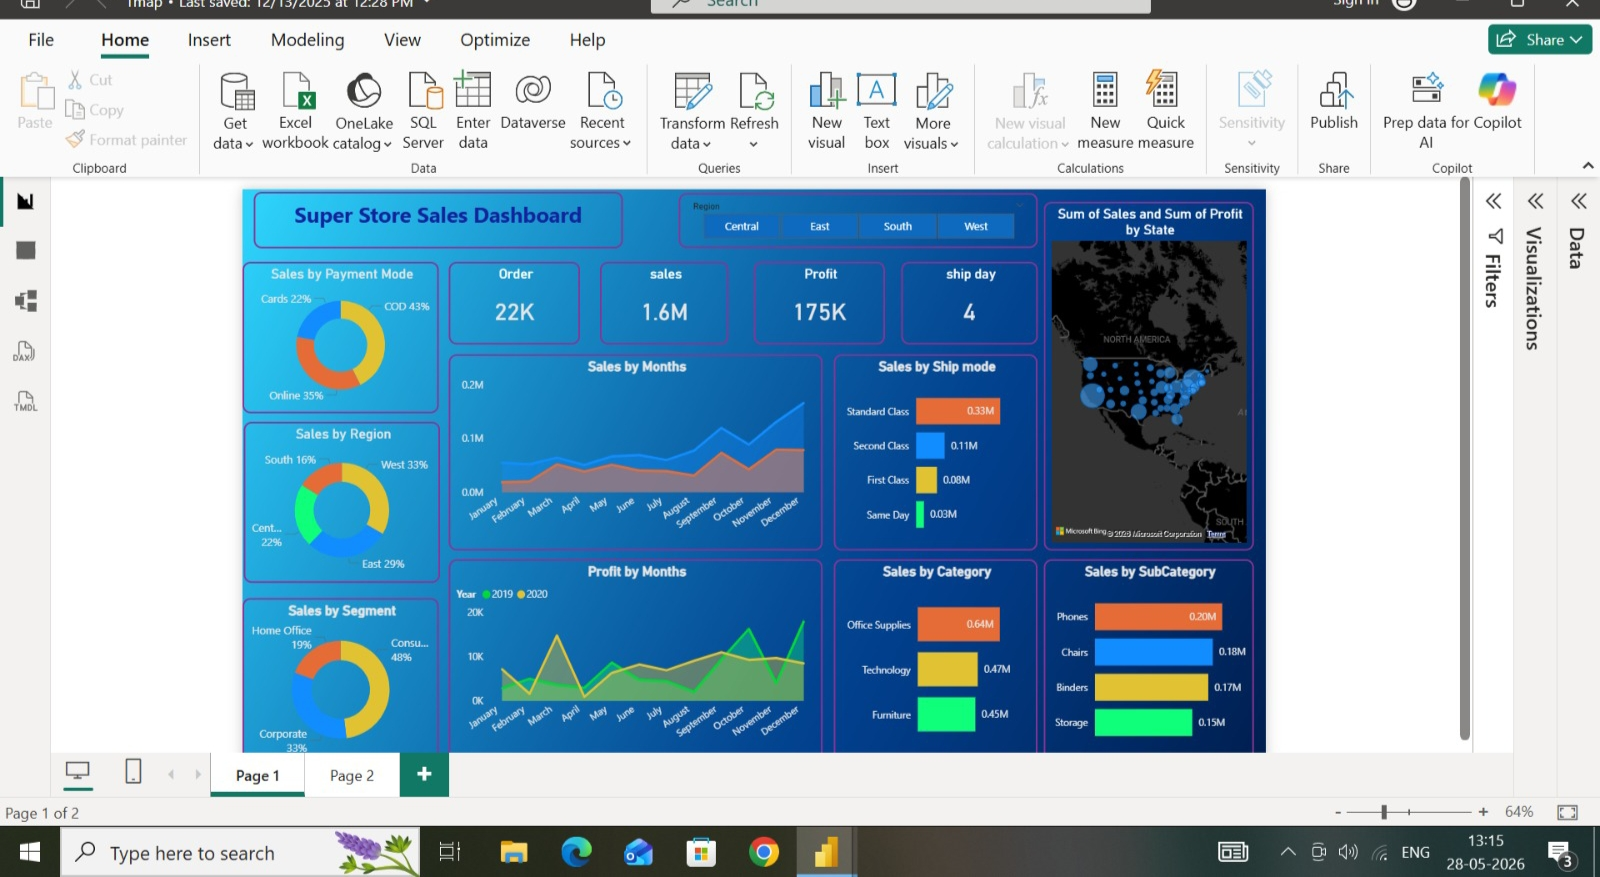

The page's visual inventory and layout, read from the dashboard file:
{"tool":"powerbi","page":{"name":"Page 1","canvas":[1280,720],"ordinal":0},"visuals":[{"type":"clusteredBarChart","title":" Sales by SubCategory","fields":{"Y":["Sum(SuperStore_Sales_Dataset.Sales)"],"Category":["SuperStore_Sales_Dataset.Sub-Category"]},"box":[1001.9,462.6,262.6,250.1],"z":0},{"type":"clusteredBarChart","title":" Sales by Category","fields":{"Category":["SuperStore_Sales_Dataset.Category"],"Y":["Sum(SuperStore_Sales_Dataset.Sales)"]},"box":[739.3,462.6,254.8,250.1],"z":1000},{"type":"clusteredBarChart","title":" Sales by Ship mode","fields":{"Y":["Sum(SuperStore_Sales_Dataset.Sales)"],"Category":["SuperStore_Sales_Dataset.Ship Mode"]},"box":[739.3,206.3,254.8,245.4],"z":2000},{"type":"areaChart","title":"Sales by Months","fields":{"Y":["Sum(SuperStore_Sales_Dataset.Sales)"],"Category":["SuperStore_Sales_Dataset.Order Date.Variation.Date Hierarchy.Month","SuperStore_Sales_Dataset.Order Date.Variation.Date Hierarchy.Day"],"Series":["SuperStore_Sales_Dataset.Order Date.Variation.Date Hierarchy.Year"]},"box":[257.9,206.3,467.3,245.4],"z":3000},{"type":"areaChart","title":"Profit by Months","fields":{"Y":["Sum(SuperStore_Sales_Dataset.Profit)"],"Category":["SuperStore_Sales_Dataset.Order Date.Variation.Date Hierarchy.Month","SuperStore_Sales_Dataset.Order Date.Variation.Date Hierarchy.Day"],"Series":["SuperStore_Sales_Dataset.Order Date.Variation.Date Hierarchy.Year"]},"box":[257.9,462.6,467.3,250.1],"z":4000},{"type":"donutChart","title":"Sales by Segment","fields":{"Category":["SuperStore_Sales_Dataset.Segment"],"Y":["Sum(SuperStore_Sales_Dataset.Sales)"]},"box":[0,511.1,245.4,209.4],"z":5000},{"type":"donutChart","title":" Sales by Payment Mode","fields":{"Y":["Sum(SuperStore_Sales_Dataset.Sales)"],"Category":["SuperStore_Sales_Dataset.Payment Mode"]},"box":[0,90.7,245.4,189.1],"z":6000},{"type":"slicer","fields":{"Values":["SuperStore_Sales_Dataset.Region"]},"box":[545.5,4.7,448.6,68.8],"z":7000},{"type":"textbox","box":[14.1,3.1,461.1,70.3],"z":8000},{"type":"card","title":"sales","fields":{"Values":["Sum(SuperStore_Sales_Dataset.Sales)"]},"box":[447,90.7,161,103.2],"z":9000},{"type":"card","title":"Order","fields":{"Values":["Sum(SuperStore_Sales_Dataset.Quantity)"]},"box":[257.9,90.7,164.1,103.2],"z":10000},{"type":"card","title":"Profit","fields":{"Values":["Sum(SuperStore_Sales_Dataset.Profit)"]},"box":[639.3,90.7,164.1,103.2],"z":11000},{"type":"card","title":"ship day","fields":{"Values":["Avg(SuperStore_Sales_Dataset.Average delivery)"]},"box":[823.7,90.7,170.4,103.2],"z":12000},{"type":"donutChart","title":"Sales by Region","fields":{"Y":["Sum(SuperStore_Sales_Dataset.Sales)"],"Category":["SuperStore_Sales_Dataset.Region"]},"box":[1.6,290.7,245.4,201.6],"z":13000},{"type":"map","fields":{"Size":["Sum(SuperStore_Sales_Dataset.Sales)"],"Category":["SuperStore_Sales_Dataset.State"]},"box":[1001.9,15.6,262.6,436.1],"z":14000}]}

Visuals, with their boxes on the page's 1280x720 design canvas (x1, y1, x2, y2). These are canvas units, not pixel positions in the 1600x877 screenshot, which may show the page scaled, cropped or inside an application window:
" Sales by SubCategory" clusteredBarChart: select_region(1002, 463, 1264, 713)
" Sales by Category" clusteredBarChart: select_region(739, 463, 994, 713)
" Sales by Ship mode" clusteredBarChart: select_region(739, 206, 994, 452)
"Sales by Months" areaChart: select_region(258, 206, 725, 452)
"Profit by Months" areaChart: select_region(258, 463, 725, 713)
"Sales by Segment" donutChart: select_region(0, 511, 245, 720)
" Sales by Payment Mode" donutChart: select_region(0, 91, 245, 280)
slicer - SuperStore_Sales_Dataset.Region: select_region(546, 5, 994, 74)
textbox: select_region(14, 3, 475, 73)
"sales" card: select_region(447, 91, 608, 194)
"Order" card: select_region(258, 91, 422, 194)
"Profit" card: select_region(639, 91, 803, 194)
"ship day" card: select_region(824, 91, 994, 194)
"Sales by Region" donutChart: select_region(2, 291, 247, 492)
map - Sum(SuperStore_Sales_Dataset.Sales) x SuperStore_Sales_Dataset.State: select_region(1002, 16, 1264, 452)
